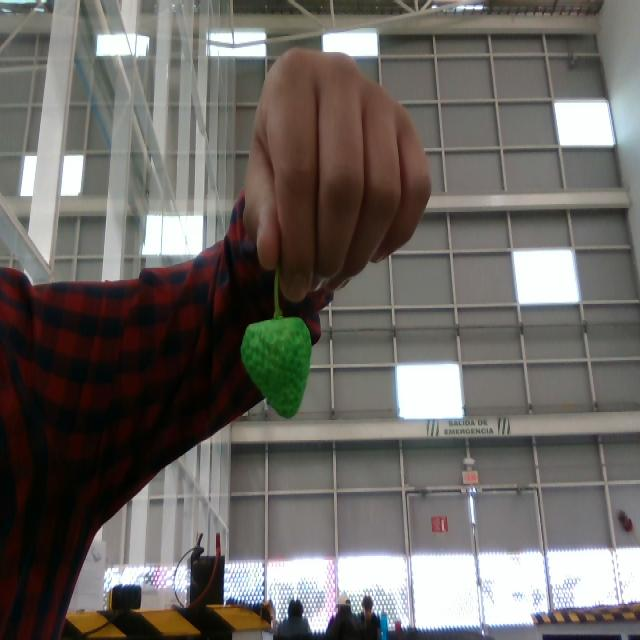verde: (240, 315, 312, 421)
